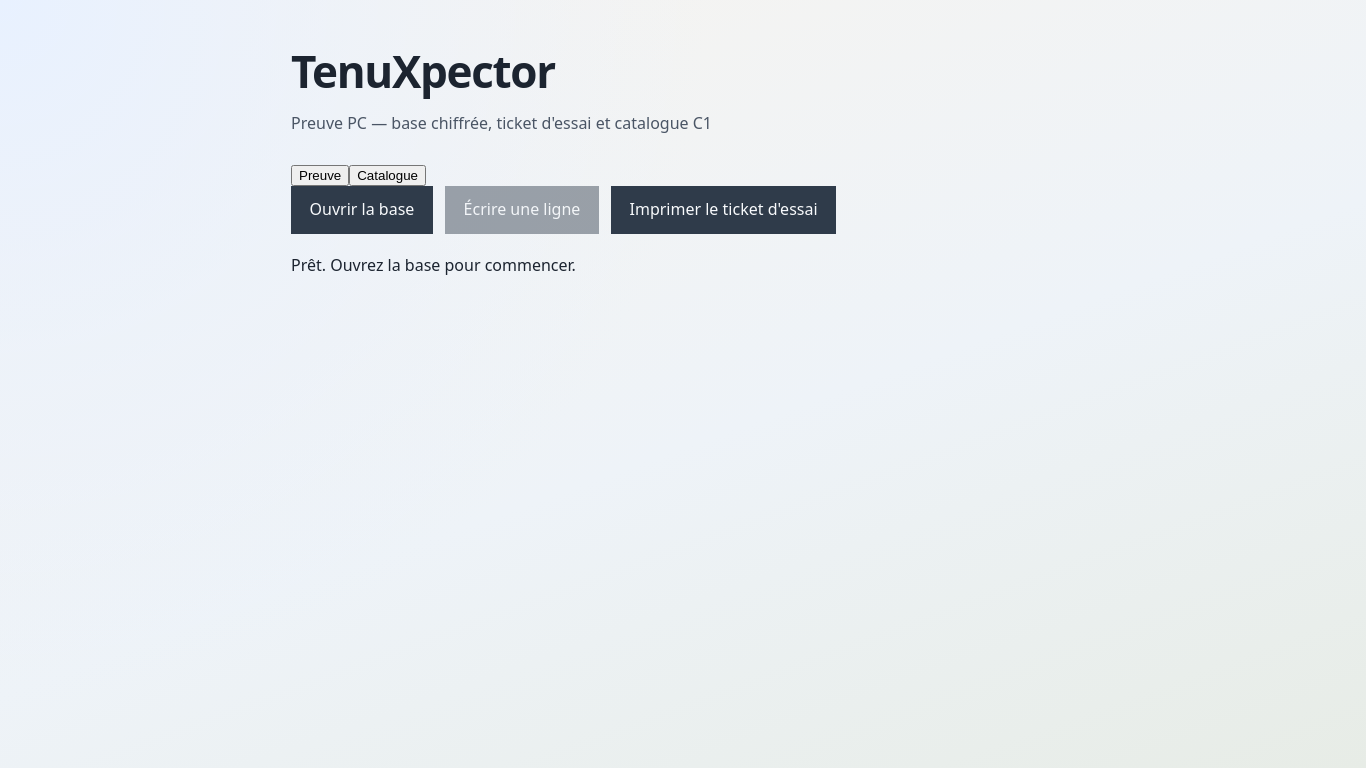
App renderer [NFR8] › affiche une erreur IPC typée
Click the button with test id "open-database" at (362, 210), box x1=291 y1=186 x2=433 y2=234
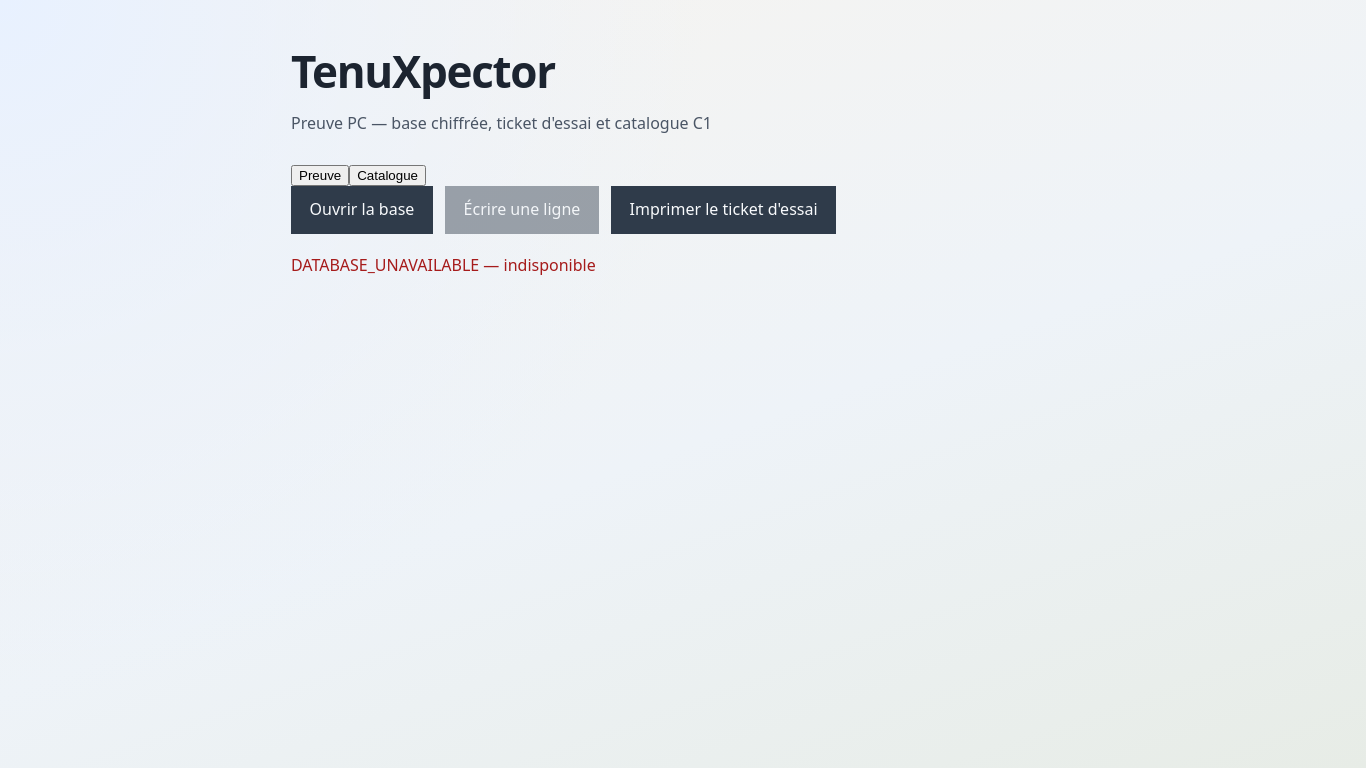
Expected: the message with test id "status-line" shows "DATABASE_UNAVAILABLE", x1=291 y1=254 x2=596 y2=276
